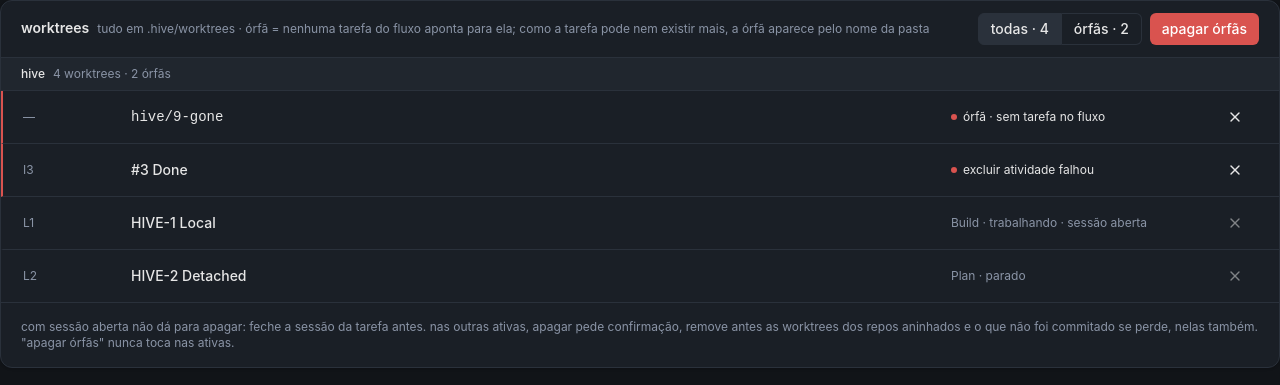
Scenario: every worktree is listed by default, under its workspace with its counts; the toggle narrows to the orphans; the note closes the task
The width and height of the screenshot is (1280, 385).
Expected: the text "4 worktrees · 2 órfãs" is shown, [53,66,171,82]
Expected: the text "hive/9-gone" is shown, [131,109,223,125]
What coordinates should you click on to do the following:
click the radio button labelled "órfãs · 2"
I would click on:
 (1102, 29)
Its box is [1062,13,1142,45].
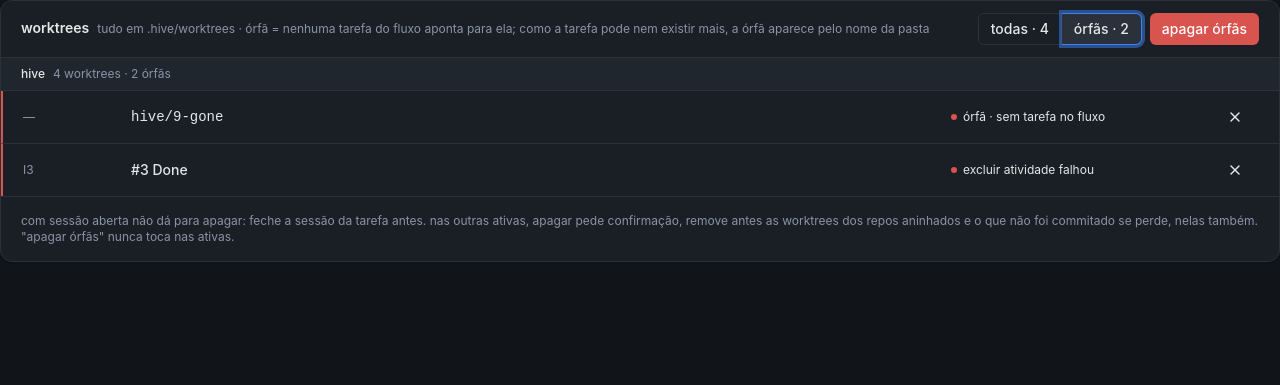
Expected: the text "hive/9-gone" is shown, [131,109,223,125]
Result: the text "HIVE-1 Local" is gone
What coordinates should you click on to do the following:
click the radio button labelled "todas · 4"
I would click on:
 (1020, 29)
Its box is [978,13,1062,45].
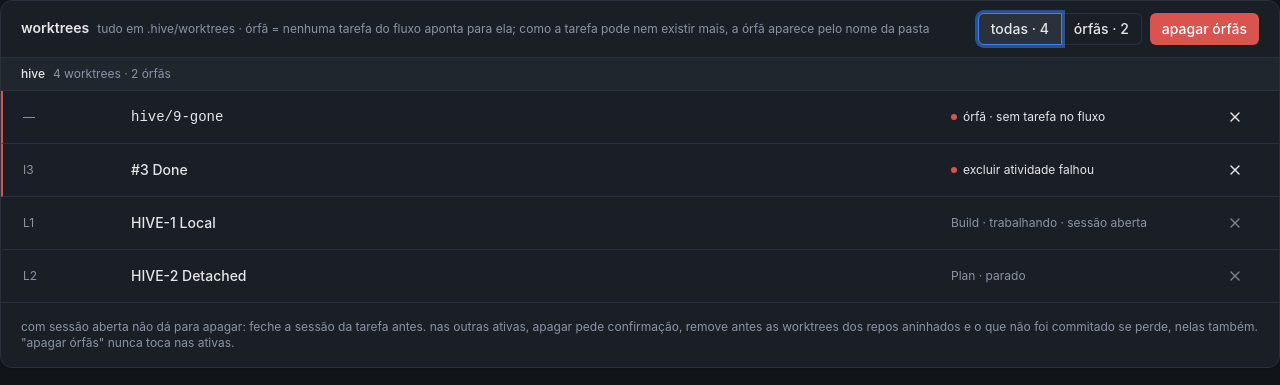
Result: the text "HIVE-1 Local" is shown at [131,214,216,231]
